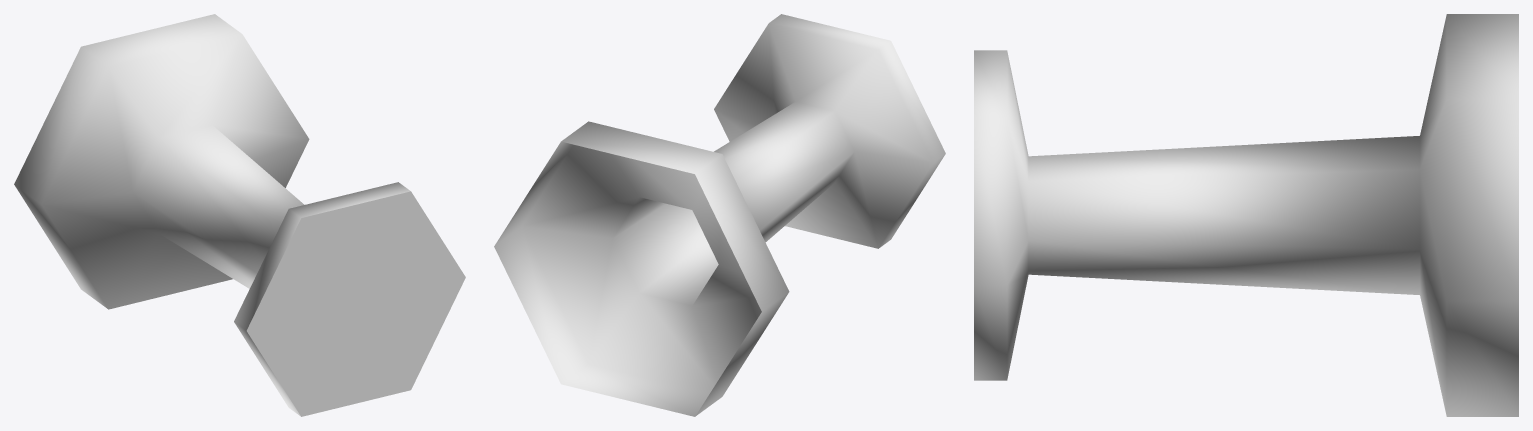
File: Pushpin_White.fbx
3 renders of one model, left to right at view 1: azimuth 30°, elevation 25°; view 2: azimuth 150°, elevation 25°; view 3: azimuth 270°, elevation 25°, orthographic. The views are drawn at different scales.
Parts seen in each view (by area): view 1: Pushpin_White; view 2: Pushpin_White; view 3: Pushpin_White.
Boxes of the visible parts, x1,y1,x2,y2 form: Pushpin_White: (14, 14, 465, 416); Pushpin_White: (494, 14, 945, 416); Pushpin_White: (974, 14, 1518, 416).
Size of the model in its own units: 0.9 by 0.7794 by 1.21.
